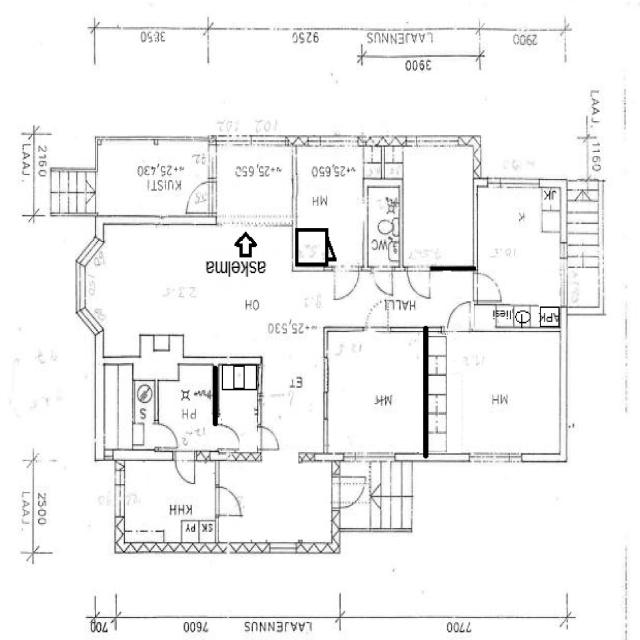door: (334, 473, 369, 513), (470, 266, 504, 306), (212, 483, 246, 521), (183, 179, 214, 218), (404, 262, 434, 301), (332, 262, 361, 302), (444, 298, 472, 334), (213, 422, 242, 453), (172, 454, 198, 488), (363, 297, 389, 331), (151, 421, 179, 452), (370, 264, 395, 298), (258, 425, 282, 452), (351, 190, 369, 220)
window: (465, 446, 527, 470), (104, 210, 180, 228), (493, 174, 543, 193)
zone: (84, 220, 315, 354), (427, 328, 564, 458), (322, 329, 427, 459), (216, 460, 339, 555), (473, 184, 565, 308), (399, 140, 476, 270), (116, 459, 218, 554), (94, 141, 212, 217), (165, 365, 262, 457), (29, 462, 116, 558), (213, 140, 296, 221), (294, 142, 364, 230), (96, 360, 149, 455), (157, 366, 214, 453), (215, 361, 260, 461), (366, 179, 402, 266), (563, 259, 601, 314), (294, 230, 330, 268)
